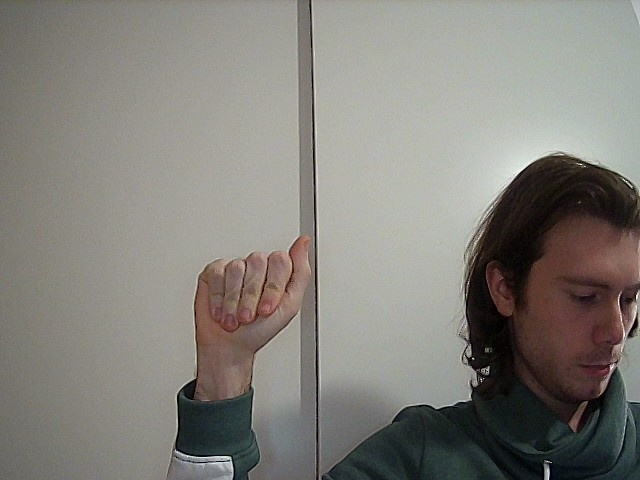a: (180, 229, 322, 361)
